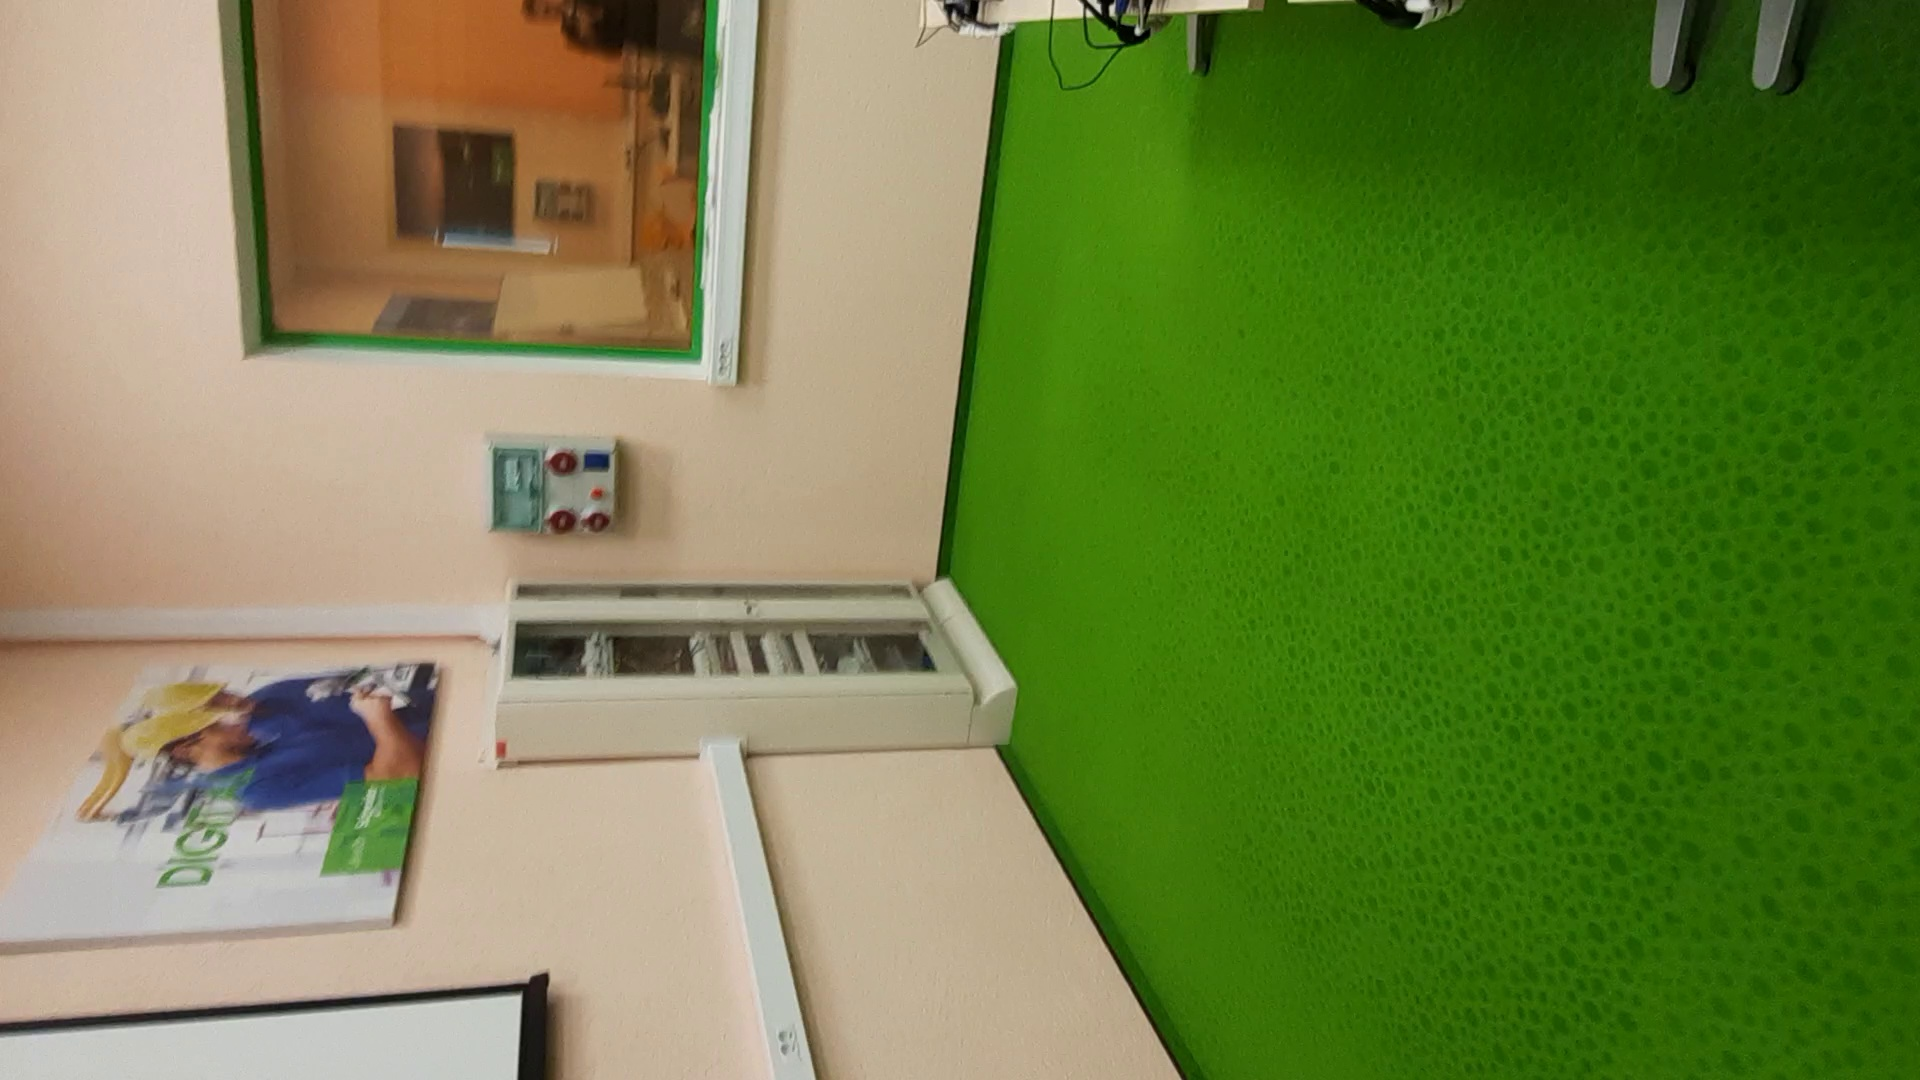stand1: (491, 582, 1021, 764)
